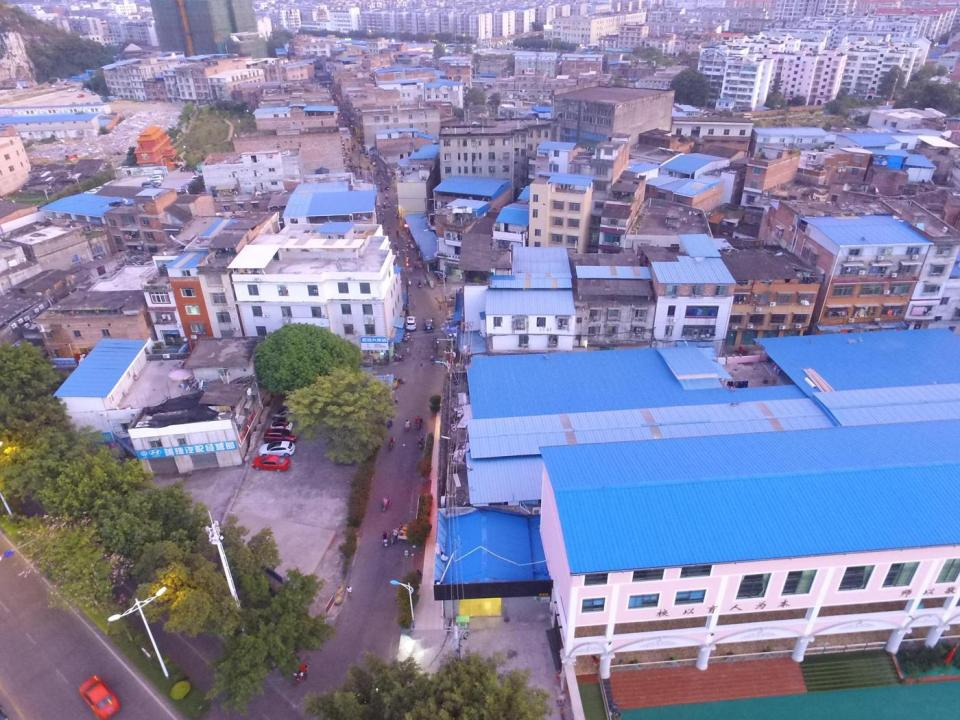car: (76, 674, 120, 717), (251, 453, 291, 471), (258, 441, 296, 456), (264, 429, 296, 444), (272, 405, 303, 418), (269, 419, 293, 433), (404, 316, 417, 330), (422, 317, 434, 332), (67, 86, 76, 92), (50, 82, 55, 88), (77, 94, 84, 98), (83, 88, 90, 92), (91, 89, 95, 94), (64, 83, 69, 85)
